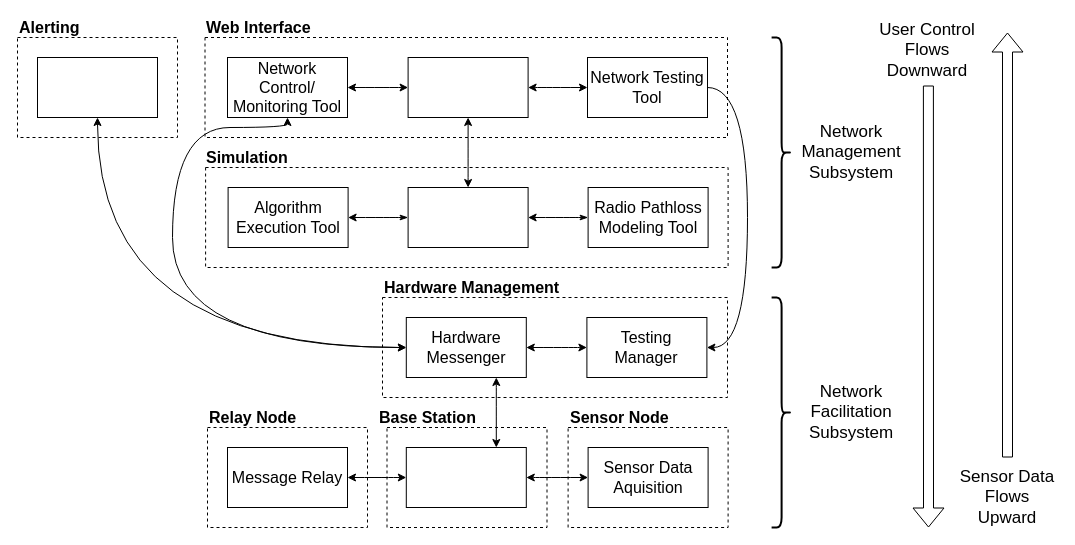
Image size: 1075x545. Some labels were removed from this diagram. The shapes that lost their labels are listed below. From the top down, each one's box as (x1, y1, x2, y2) in pixels, then its label:
(36, 56, 158, 118): Email Alerting
(407, 56, 528, 118): Network Assembly Tool
(407, 186, 528, 248): Simulation Tool
(405, 446, 526, 508): Path Finder
